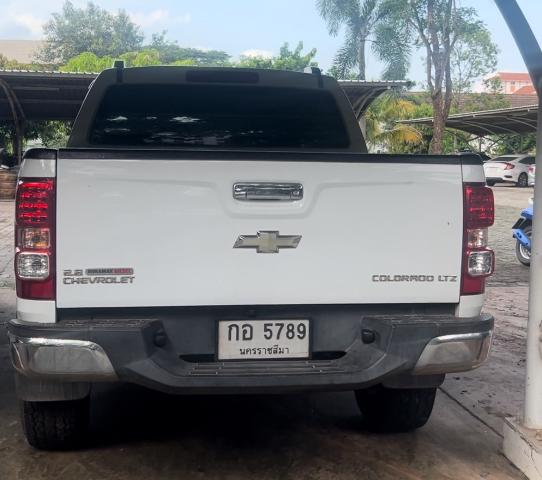pickup-truck: (8, 57, 497, 452)
